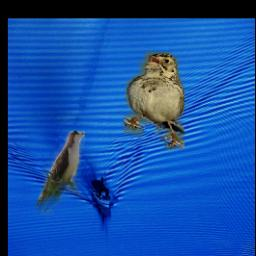Cuckoo: (31, 131, 86, 216)
Sparrow: (125, 51, 185, 149)
